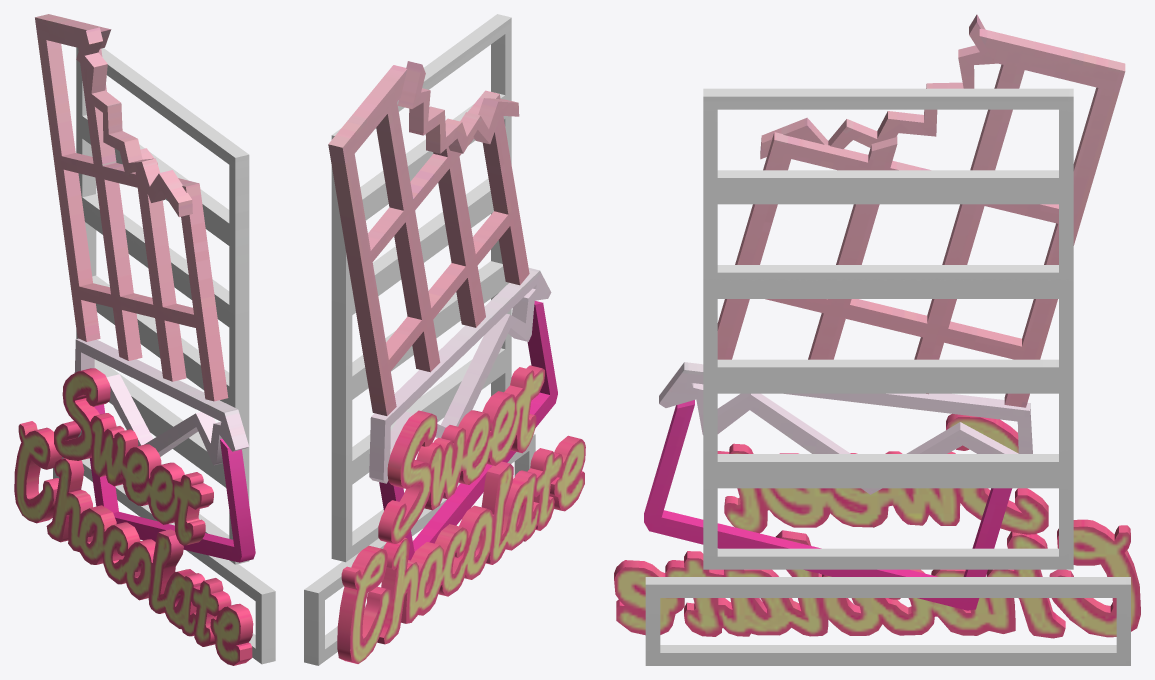
Rendered from my_chocolatecafe_01_p_wall_acc_03.glb.
3 views of the same model, side by side, from view 1: azimuth 30°, elevation 25°; view 2: azimuth 150°, elevation 25°; view 3: azimuth 270°, elevation 25° (orthographic). The views are drawn at different scales.
Parts seen in each view (by area): view 1: my_chocolatecafe_01_p_wall_acc_03; view 2: my_chocolatecafe_01_p_wall_acc_03; view 3: my_chocolatecafe_01_p_wall_acc_03.
Boxes of the visible parts, <box> form: my_chocolatecafe_01_p_wall_acc_03: <box>14,14,275,665</box>; my_chocolatecafe_01_p_wall_acc_03: <box>304,14,585,665</box>; my_chocolatecafe_01_p_wall_acc_03: <box>614,14,1140,665</box>.
Size of the model in its own units: 0.0019 by 0.0202 by 0.0154.
Materials: 1 (1 with a texture image).
